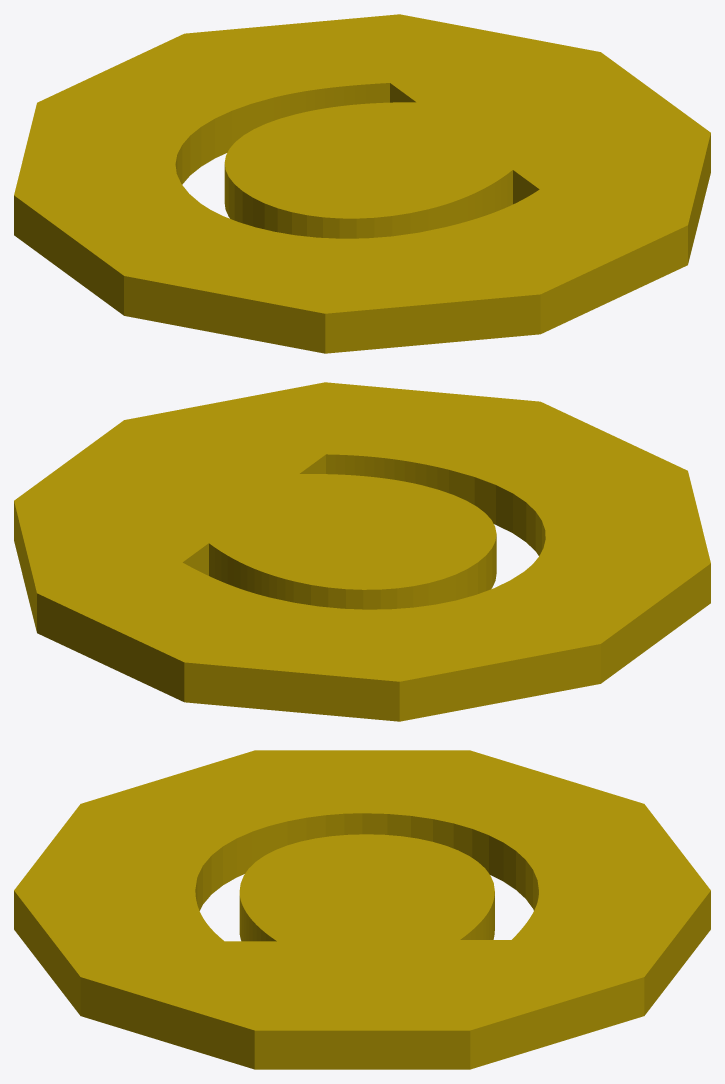
Rendered from Credit.fbx.
3 renders of one model, top to bottom at view 1: azimuth 30°, elevation 25°; view 2: azimuth 150°, elevation 25°; view 3: azimuth 270°, elevation 25°, orthographic. The views are drawn at different scales.
Visible parts, largest first — view 1: Icosphere.001; view 2: Icosphere.001; view 3: Icosphere.001.
Part boxes in pixels (bbox=[...]): Icosphere.001: bbox=[14, 14, 710, 353]; Icosphere.001: bbox=[14, 382, 710, 721]; Icosphere.001: bbox=[14, 750, 710, 1069].
Bounding box in the file's own units: 190 × 12.37 × 200.
